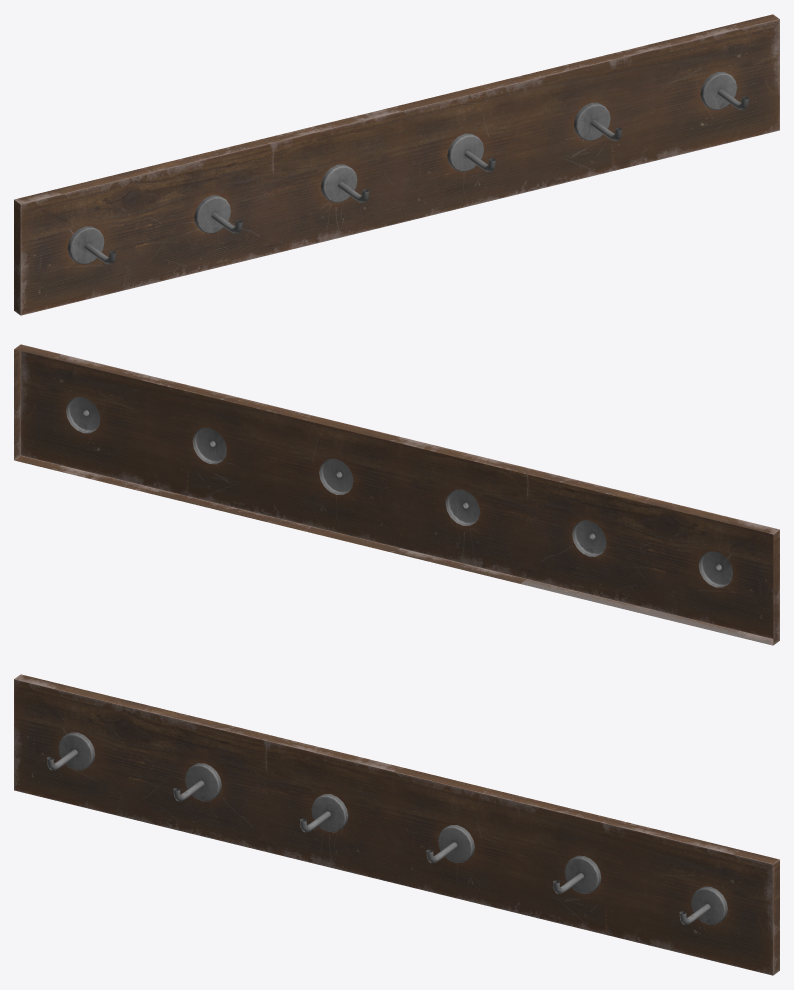
The model's file is appendiabiti.glb.
The picture shows the model from 3 angles, top to bottom: view 1: azimuth 30°, elevation 25°; view 2: azimuth 150°, elevation 25°; view 3: azimuth 330°, elevation 25°; orthographic projection.
Bounding box in the file's own units: 1.44 × 0.2018 × 0.1198.
Materials: 1 (1 with a texture image).
